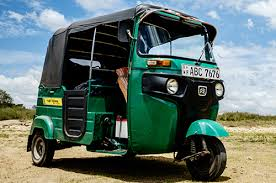tuk tuk: (26, 3, 232, 181)
